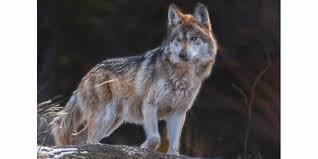Lobo: (48, 1, 219, 140)
